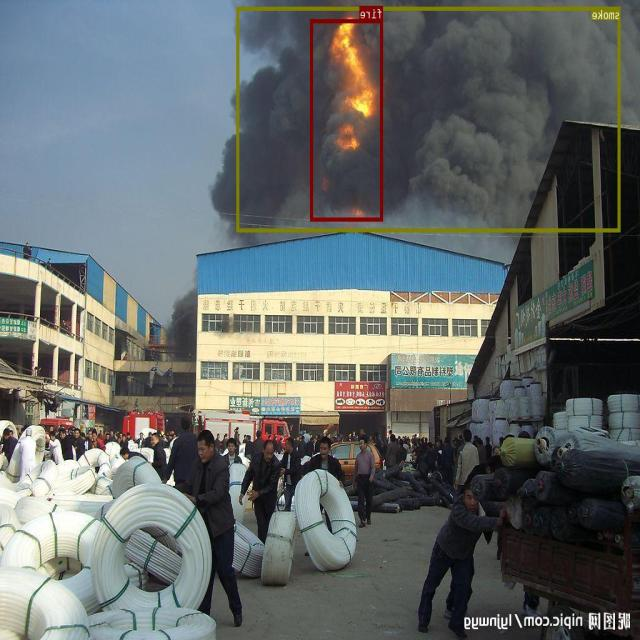fire: (311, 19, 384, 220)
smoke: (237, 6, 621, 231)
